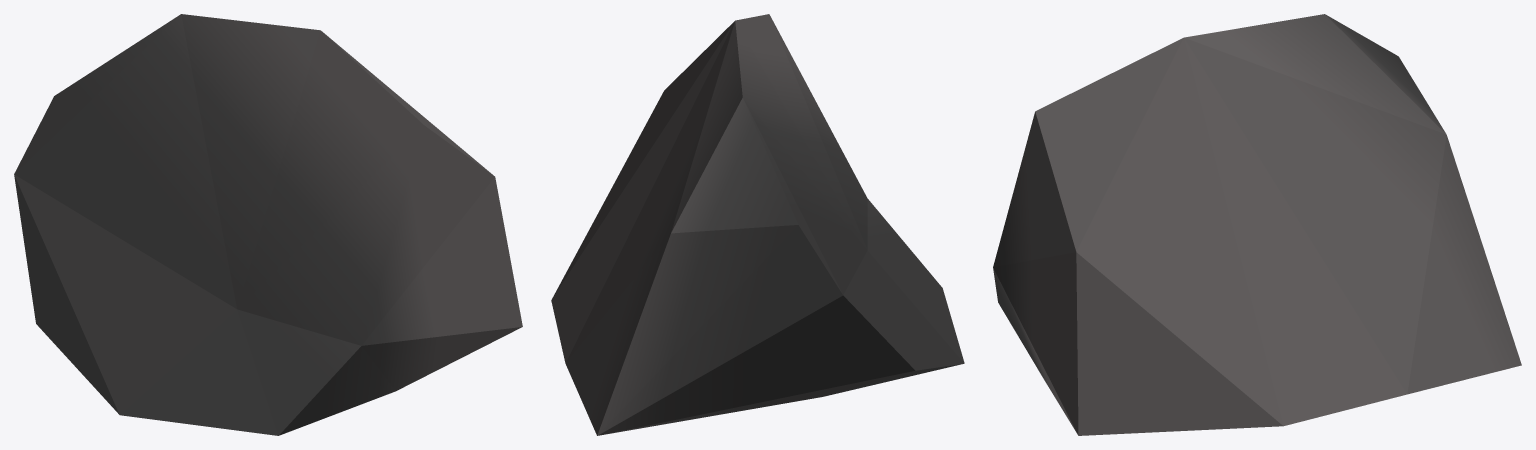
Rendered from Stone 1.glb.
The picture shows the model from 3 angles, left to right: view 1: azimuth 30°, elevation 25°; view 2: azimuth 150°, elevation 25°; view 3: azimuth 270°, elevation 25°; orthographic projection. The views are drawn at different scales.
Visible parts, largest first — view 1: Stone 1; view 2: Stone 1; view 3: Stone 1.
Part boxes in pixels (x1,y1,x2,y2): Stone 1: [14, 14, 522, 435]; Stone 1: [551, 14, 964, 435]; Stone 1: [993, 14, 1521, 435].
Size of what is drawn, in the model's own units: 2.82 by 2.31 by 3.1.
Materials: 1 (1 with a texture image).
